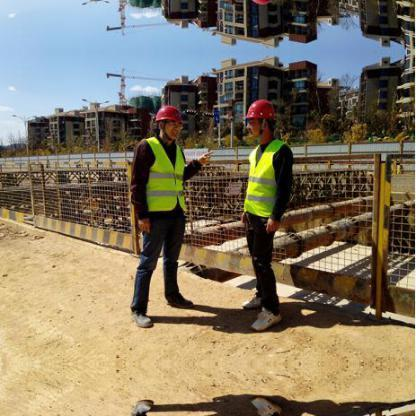helmet: (146, 101, 187, 130), (241, 95, 277, 126)
